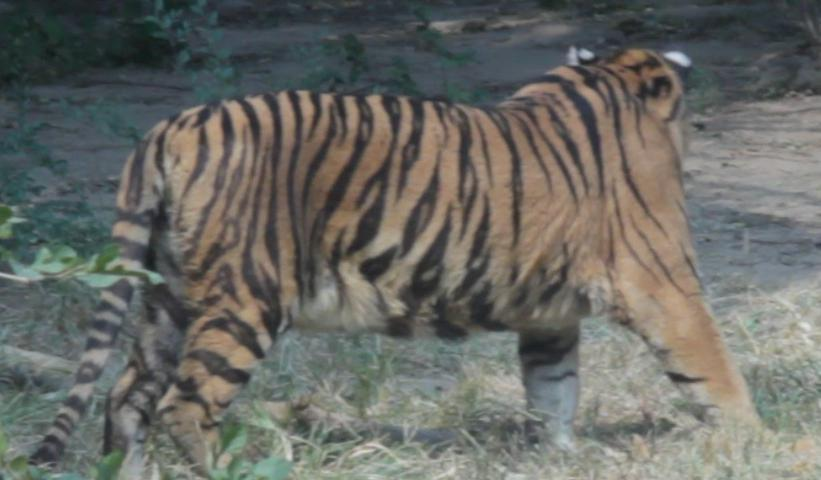tiger: (104, 49, 755, 464)
